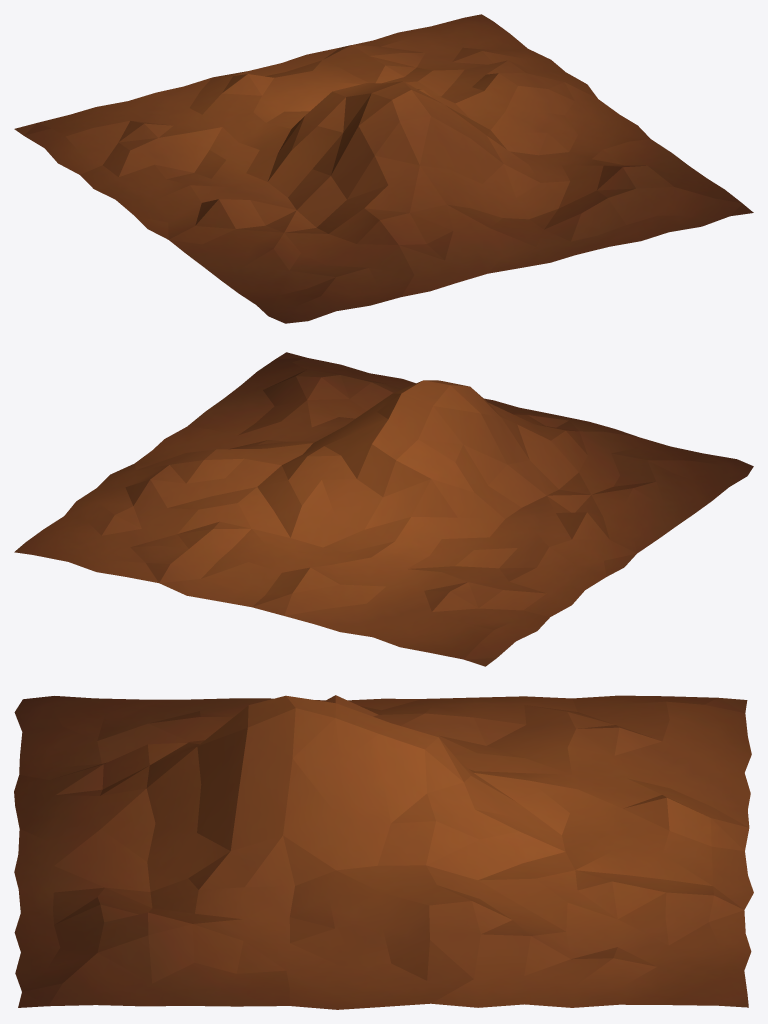
The model's file is hill_011.fbx.
3 renders of one model, top to bottom at view 1: azimuth 30°, elevation 25°; view 2: azimuth 150°, elevation 25°; view 3: azimuth 270°, elevation 25°, orthographic. The views are drawn at different scales.
Parts seen in each view (by area): view 1: hill.011; view 2: hill.011; view 3: hill.011.
Boxes of the visible parts, left/top/right/bottom form: hill.011: left=14, top=14, right=753, bottom=323; hill.011: left=14, top=352, right=753, bottom=666; hill.011: left=14, top=695, right=753, bottom=1009.
Size of the model in its own units: 5065 by 1077 by 5054.
